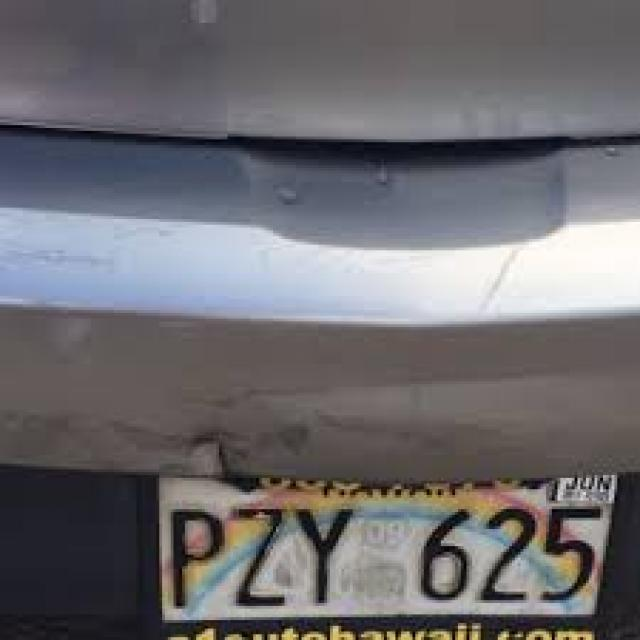moderate: (35, 315, 329, 486)
